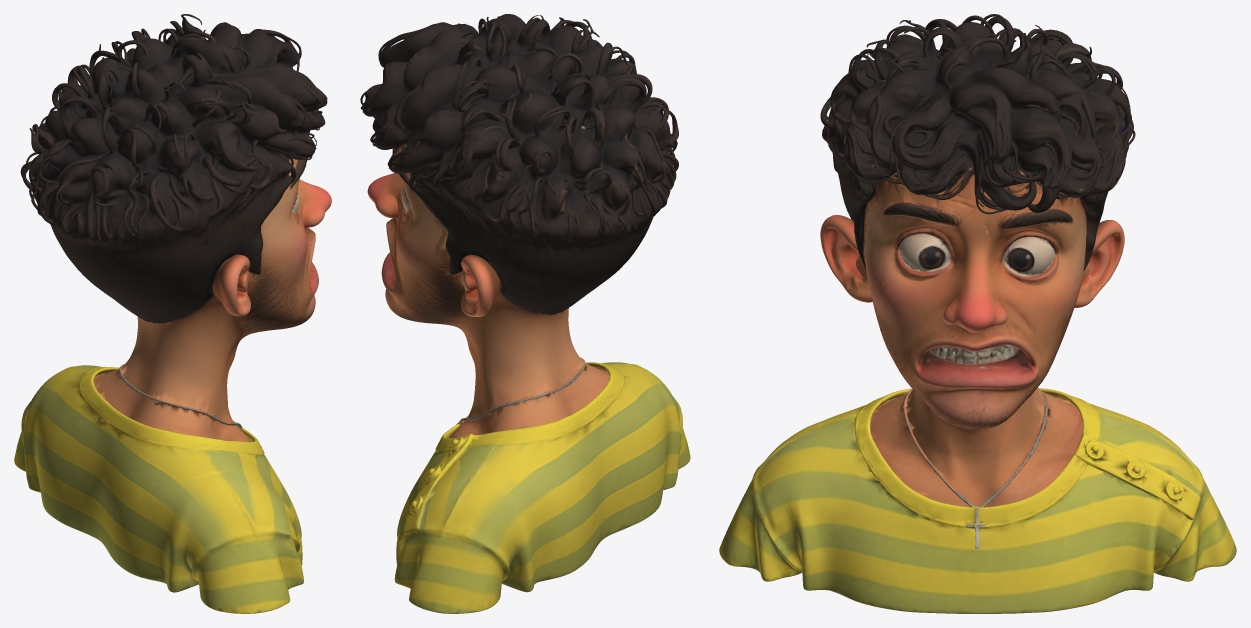
The picture shows the model from 3 angles, left to right: view 1: azimuth 30°, elevation 25°; view 2: azimuth 150°, elevation 25°; view 3: azimuth 270°, elevation 25°; orthographic projection. The views are drawn at different scales.
Parts seen in each view (by area): view 1: tripo_node_f44bd8b4-881b-4704-9daa-470040321a52; view 2: tripo_node_f44bd8b4-881b-4704-9daa-470040321a52; view 3: tripo_node_f44bd8b4-881b-4704-9daa-470040321a52.
Boxes of the visible parts, x1,y1,x2,y2 form: tripo_node_f44bd8b4-881b-4704-9daa-470040321a52: (14,14,331,613); tripo_node_f44bd8b4-881b-4704-9daa-470040321a52: (360,14,690,613); tripo_node_f44bd8b4-881b-4704-9daa-470040321a52: (719,14,1236,613).
Size of the model in its own units: 0.607 by 0.9787 by 0.8401.
Materials: 1 (1 with a texture image).
